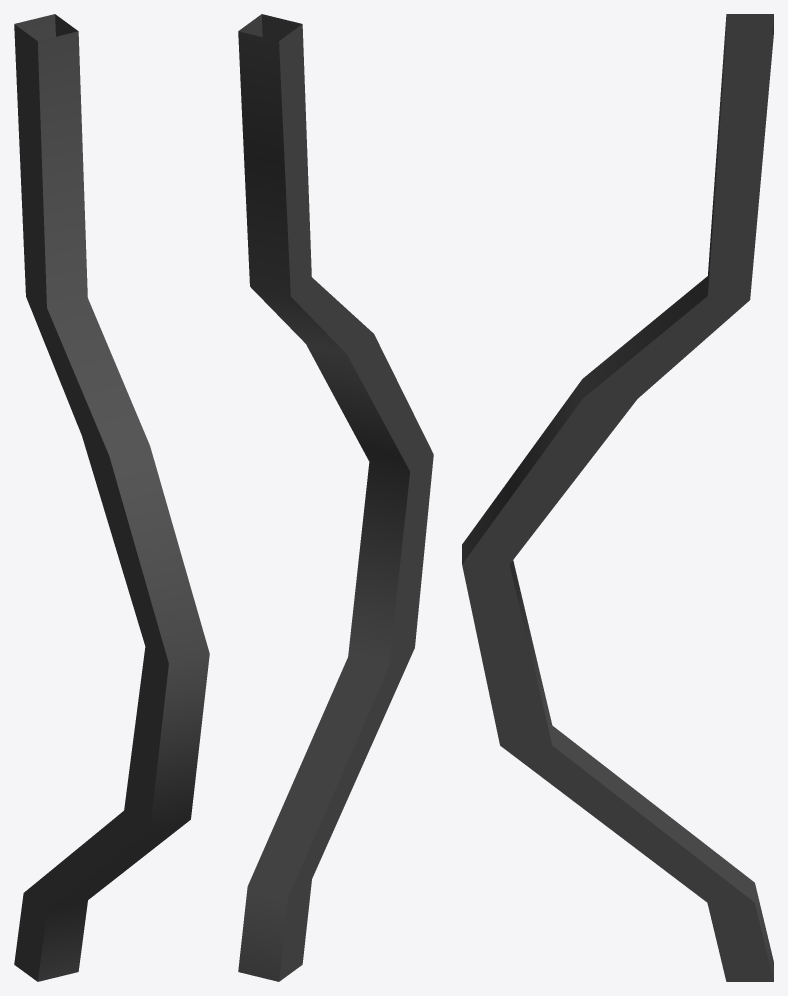
File: RailingPLOD.fbx
3 renders of one model, left to right at view 1: azimuth 30°, elevation 25°; view 2: azimuth 150°, elevation 25°; view 3: azimuth 270°, elevation 25°, orthographic.
Parts seen in each view (by area): view 1: Railing Pool1_LOD1; view 2: Railing Pool1_LOD1; view 3: Railing Pool1_LOD1.
Boxes of the visible parts, bbox=[...] form: Railing Pool1_LOD1: bbox=[14, 14, 209, 981]; Railing Pool1_LOD1: bbox=[238, 14, 433, 981]; Railing Pool1_LOD1: bbox=[462, 14, 773, 981].
Size of the model in its own units: 5 by 110 by 32.8.
